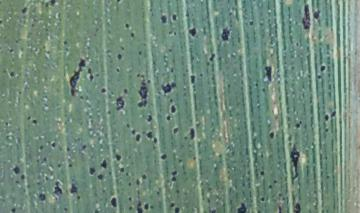tarspot: (66, 52, 88, 104), (287, 143, 306, 179), (135, 72, 152, 112), (261, 58, 277, 88), (299, 2, 314, 32), (158, 80, 181, 96), (112, 93, 127, 115), (50, 180, 65, 200), (218, 25, 233, 43), (234, 199, 253, 213), (67, 180, 80, 198), (96, 156, 111, 171), (185, 23, 200, 38), (290, 198, 305, 213), (292, 116, 307, 131), (317, 60, 331, 76), (206, 50, 220, 65), (310, 7, 324, 22), (109, 193, 121, 210), (187, 126, 199, 143), (267, 126, 279, 143), (111, 151, 126, 164), (8, 164, 24, 176), (84, 67, 96, 83), (35, 190, 49, 203), (86, 164, 99, 178), (97, 84, 111, 97), (114, 48, 126, 63), (188, 70, 198, 88), (328, 106, 339, 122), (274, 199, 286, 213), (321, 110, 332, 125), (168, 125, 184, 135), (116, 163, 129, 175), (143, 112, 156, 124), (145, 129, 157, 142), (133, 132, 143, 147), (158, 151, 171, 162), (169, 10, 180, 23), (170, 167, 181, 179), (18, 5, 31, 15), (7, 69, 20, 79), (36, 139, 46, 152), (123, 20, 133, 33), (255, 195, 268, 205), (160, 12, 168, 28), (169, 102, 178, 116), (77, 141, 88, 152), (167, 198, 178, 209), (175, 157, 187, 167), (50, 138, 58, 152), (167, 175, 178, 185), (64, 143, 73, 155), (125, 178, 134, 190), (129, 127, 139, 137), (257, 167, 267, 177), (59, 37, 70, 46), (112, 67, 123, 76), (141, 171, 150, 182), (133, 177, 142, 188), (141, 201, 152, 210), (47, 1, 61, 8), (3, 117, 11, 129), (153, 136, 161, 148), (54, 162, 64, 171), (121, 86, 131, 95), (245, 18, 255, 27), (266, 183, 276, 192), (126, 193, 134, 204), (13, 178, 22, 187), (31, 117, 39, 127), (207, 207, 220, 213), (7, 206, 18, 213), (8, 47, 17, 55), (24, 115, 33, 123), (62, 205, 71, 213), (67, 162, 76, 170), (137, 48, 145, 57), (127, 207, 138, 213), (124, 122, 133, 129), (91, 207, 101, 213), (173, 209, 186, 213), (1, 18, 5, 26)
